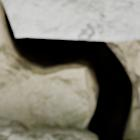brick: (3, 0, 139, 40)
broken_brick: (0, 118, 95, 139)
crack: (0, 0, 138, 139)
